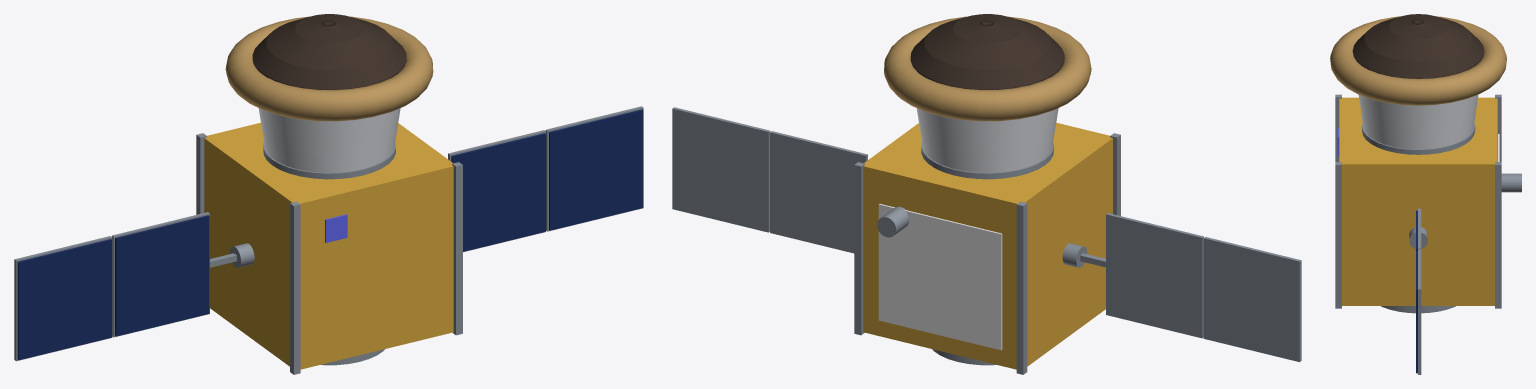
Rendered from SP-BRX.glb.
3 renders of one model, left to right at view 1: azimuth 30°, elevation 25°; view 2: azimuth 150°, elevation 25°; view 3: azimuth 270°, elevation 25°, orthographic. The views are drawn at different scales.
Visible parts, largest first — view 1: service_module_structure, solar_panel_+X2, solar_panel_-X2, solar_panel_-X1, nose, heat_shield_packed, solar_panel_+X1, capsule_backshell, corner_rail_-X-Y, corner_rail_+X-Y, separation_interface, panel_frame_-X2 (+4 smaller); view 2: service_module_structure, radiator_+Y_face, panel_frame_-X2, panel_frame_+X2, panel_frame_-X1, nose, panel_frame_+X1, heat_shield_packed, capsule_backshell, corner_rail_-X+Y, corner_rail_+X+Y, separation_interface (+2 smaller); view 3: service_module_structure, nose, heat_shield_packed, capsule_backshell, corner_rail_+X-Y, corner_rail_+X+Y, separation_interface, panel_frame_+X2, star_tracker, launch_separation_ring, corner_rail_-X+Y, corner_rail_-X-Y (+2 smaller).
Boxes of the visible parts, <box> form: service_module_structure: <box>204,122,453,369</box>; solar_panel_+X2: <box>549,109,643,230</box>; solar_panel_-X2: <box>17,239,111,360</box>; solar_panel_-X1: <box>115,215,209,336</box>; nose: <box>252,14,406,89</box>; heat_shield_packed: <box>225,16,433,121</box>; solar_panel_+X1: <box>451,133,545,251</box>; capsule_backshell: <box>258,108,400,172</box>; corner_rail_-X-Y: <box>290,201,300,374</box>; corner_rail_+X-Y: <box>452,162,462,335</box>; separation_interface: <box>263,142,395,179</box>; panel_frame_-X2: <box>14,236,112,361</box>; service_module_structure: <box>863,122,1112,369</box>; radiator_+Y_face: <box>878,204,1002,350</box>; panel_frame_-X2: <box>1203,237,1301,362</box>; panel_frame_+X2: <box>672,107,770,232</box>; panel_frame_-X1: <box>1106,213,1203,338</box>; nose: <box>910,14,1064,89</box>; panel_frame_+X1: <box>770,131,867,253</box>; heat_shield_packed: <box>884,16,1091,121</box>; capsule_backshell: <box>916,108,1058,172</box>; corner_rail_-X+Y: <box>1016,201,1027,374</box>; corner_rail_+X+Y: <box>854,162,864,335</box>; separation_interface: <box>921,142,1053,179</box>; service_module_structure: <box>1339,97,1497,305</box>; nose: <box>1352,14,1484,78</box>; heat_shield_packed: <box>1330,16,1506,105</box>; capsule_backshell: <box>1358,95,1478,149</box>; corner_rail_+X-Y: <box>1335,162,1341,308</box>; corner_rail_+X+Y: <box>1495,162,1501,308</box>; separation_interface: <box>1362,123,1475,154</box>; panel_frame_+X2: <box>1418,249,1421,374</box>; star_tracker: <box>1501,173,1521,192</box>; launch_separation_ring: <box>1381,306,1455,313</box>; corner_rail_-X+Y: <box>1495,94,1501,161</box>; corner_rail_-X-Y: <box>1335,94,1341,161</box>.
Size of the model in its own units: 2.3 by 1.11 by 0.716.
